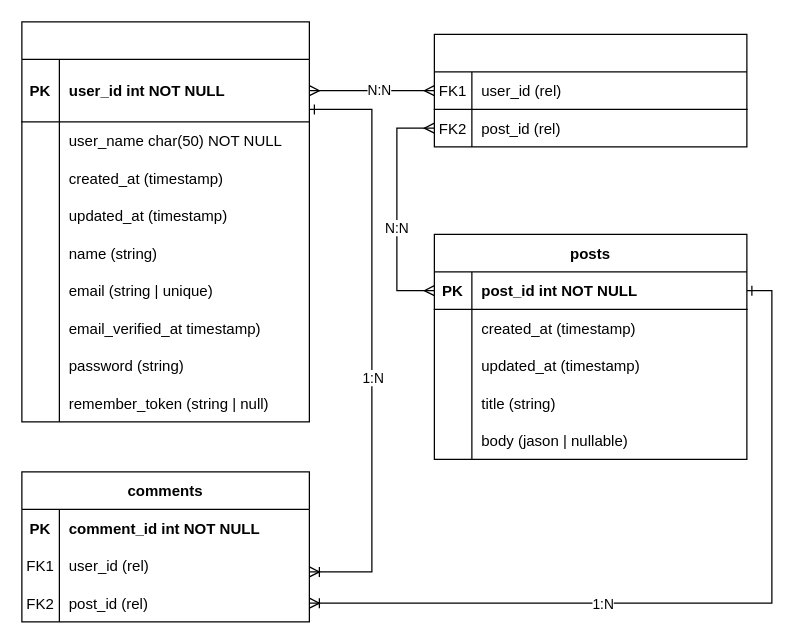
Some shapes in this 805 by 644 pixel diagram are drawn without their labels. Here are the shapes that lost their labels. From the top down, the box of each, then its label:
(433, 33, 747, 147): post_user (pivot)
(21, 21, 309, 422): users
